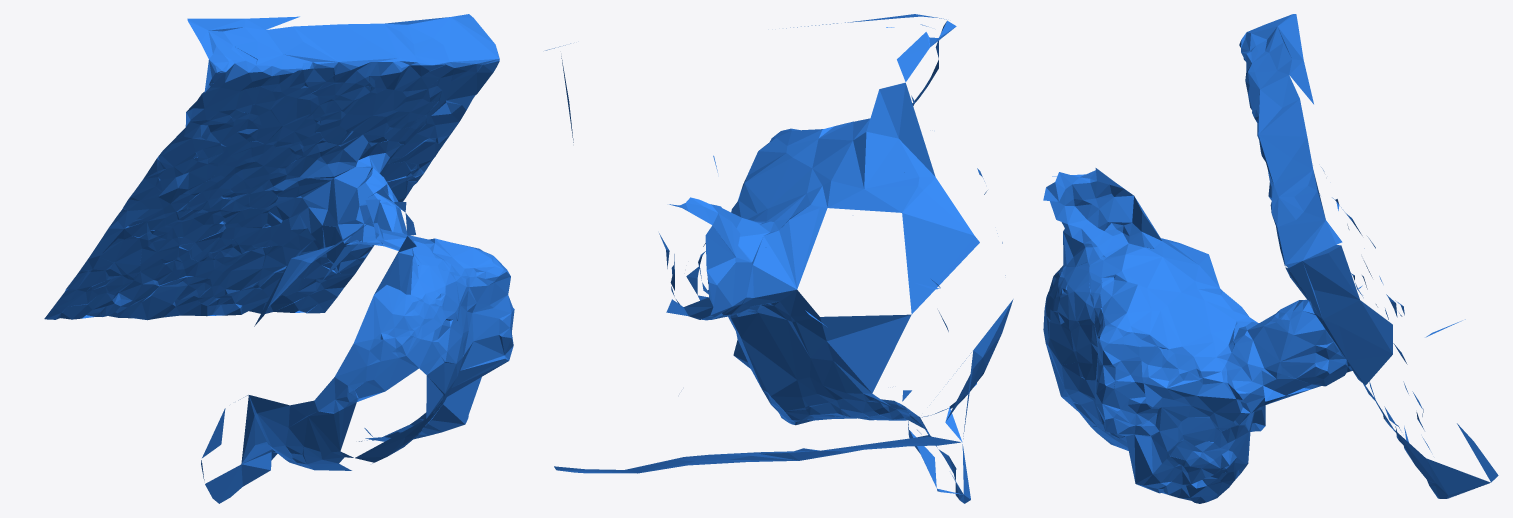
The model's file is T-0749-scan.glb.
The picture shows the model from 3 angles, left to right: view 1: azimuth 30°, elevation 25°; view 2: azimuth 150°, elevation 25°; view 3: azimuth 270°, elevation 25°; orthographic projection. The views are drawn at different scales.
Size of the model in its own units: 0.1871 by 0.2 by 0.1886.
